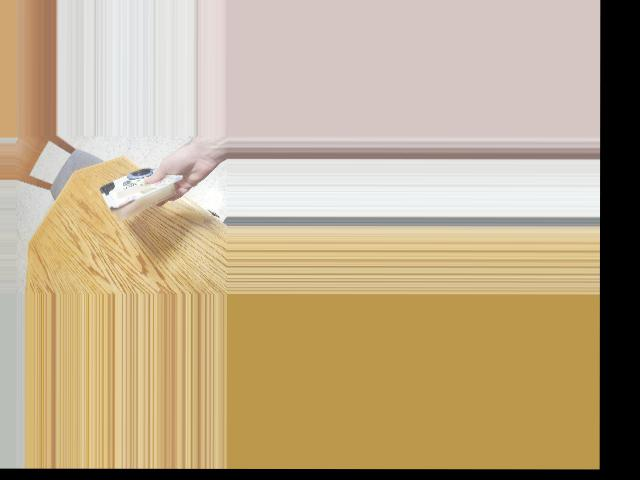cheese: (103, 154, 170, 218)
